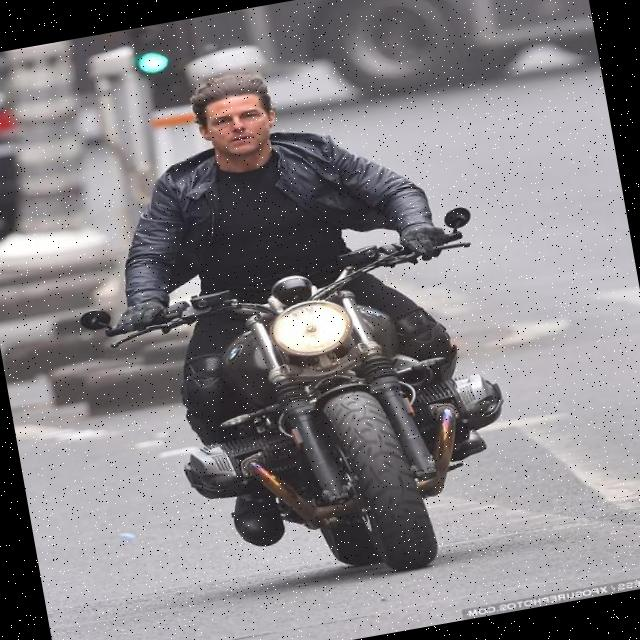No helmet: (177, 65, 295, 187)
